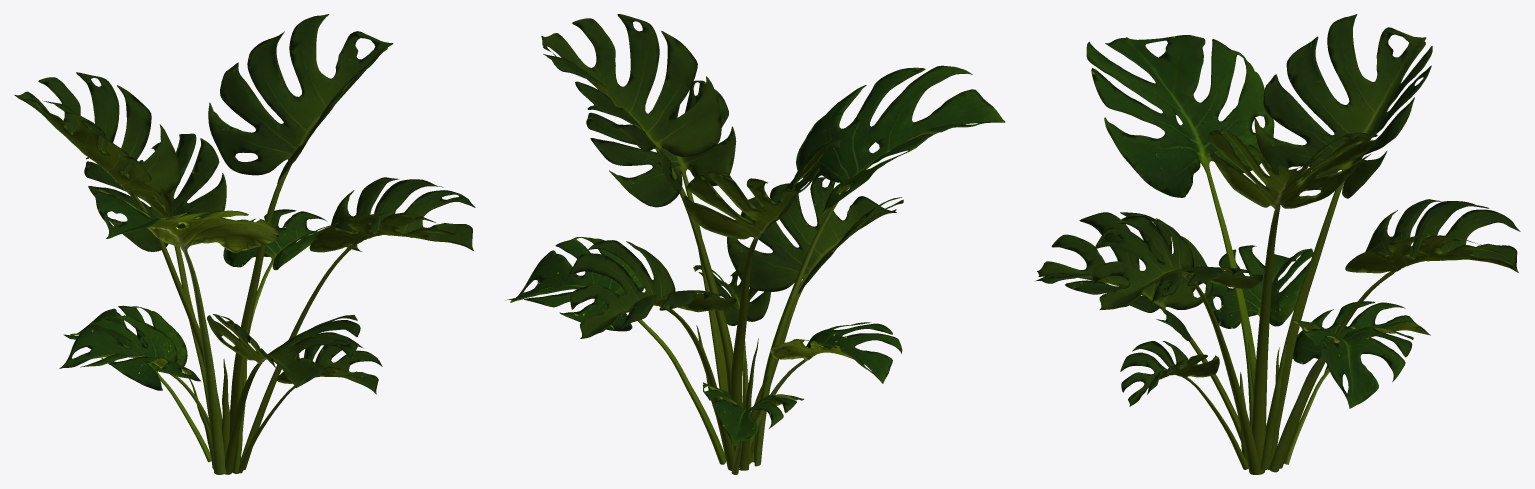
File: monstera.glb
3 renders of one model, left to right at view 1: azimuth 30°, elevation 25°; view 2: azimuth 150°, elevation 25°; view 3: azimuth 270°, elevation 25°, orthographic. The views are drawn at different scales.
Parts seen in each view (by area): view 1: PlantMonstera001; view 2: PlantMonstera001; view 3: PlantMonstera001.
Boxes of the visible parts, box(x1,y1,x2,y2) form: PlantMonstera001: box(14, 14, 475, 474); PlantMonstera001: box(505, 14, 1005, 474); PlantMonstera001: box(1035, 14, 1520, 474).
Size of the model in its own units: 5.47 by 5.34 by 5.82.
1 material, 1 textured.
